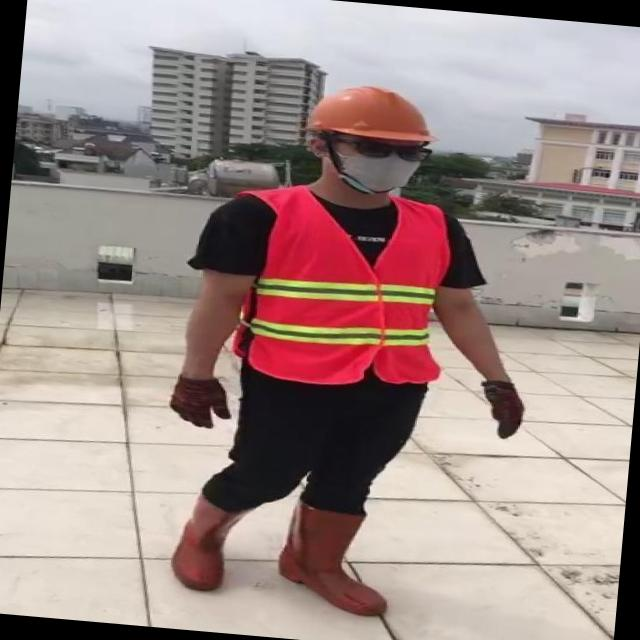hard_hat: (300, 76, 442, 150)
safety_vest: (238, 185, 454, 392)
vehicle: (118, 57, 566, 635)
work_boots: (278, 497, 397, 619), (168, 489, 246, 593)
